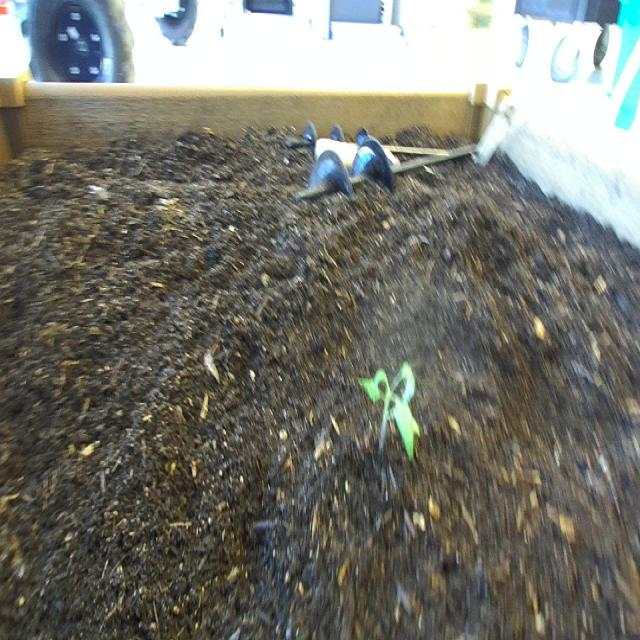Healthy: (358, 357, 422, 468)
